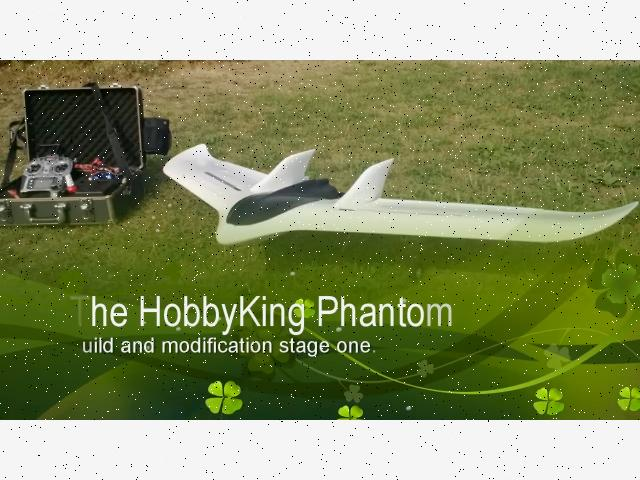Anti-Drone: (156, 118, 640, 269)
